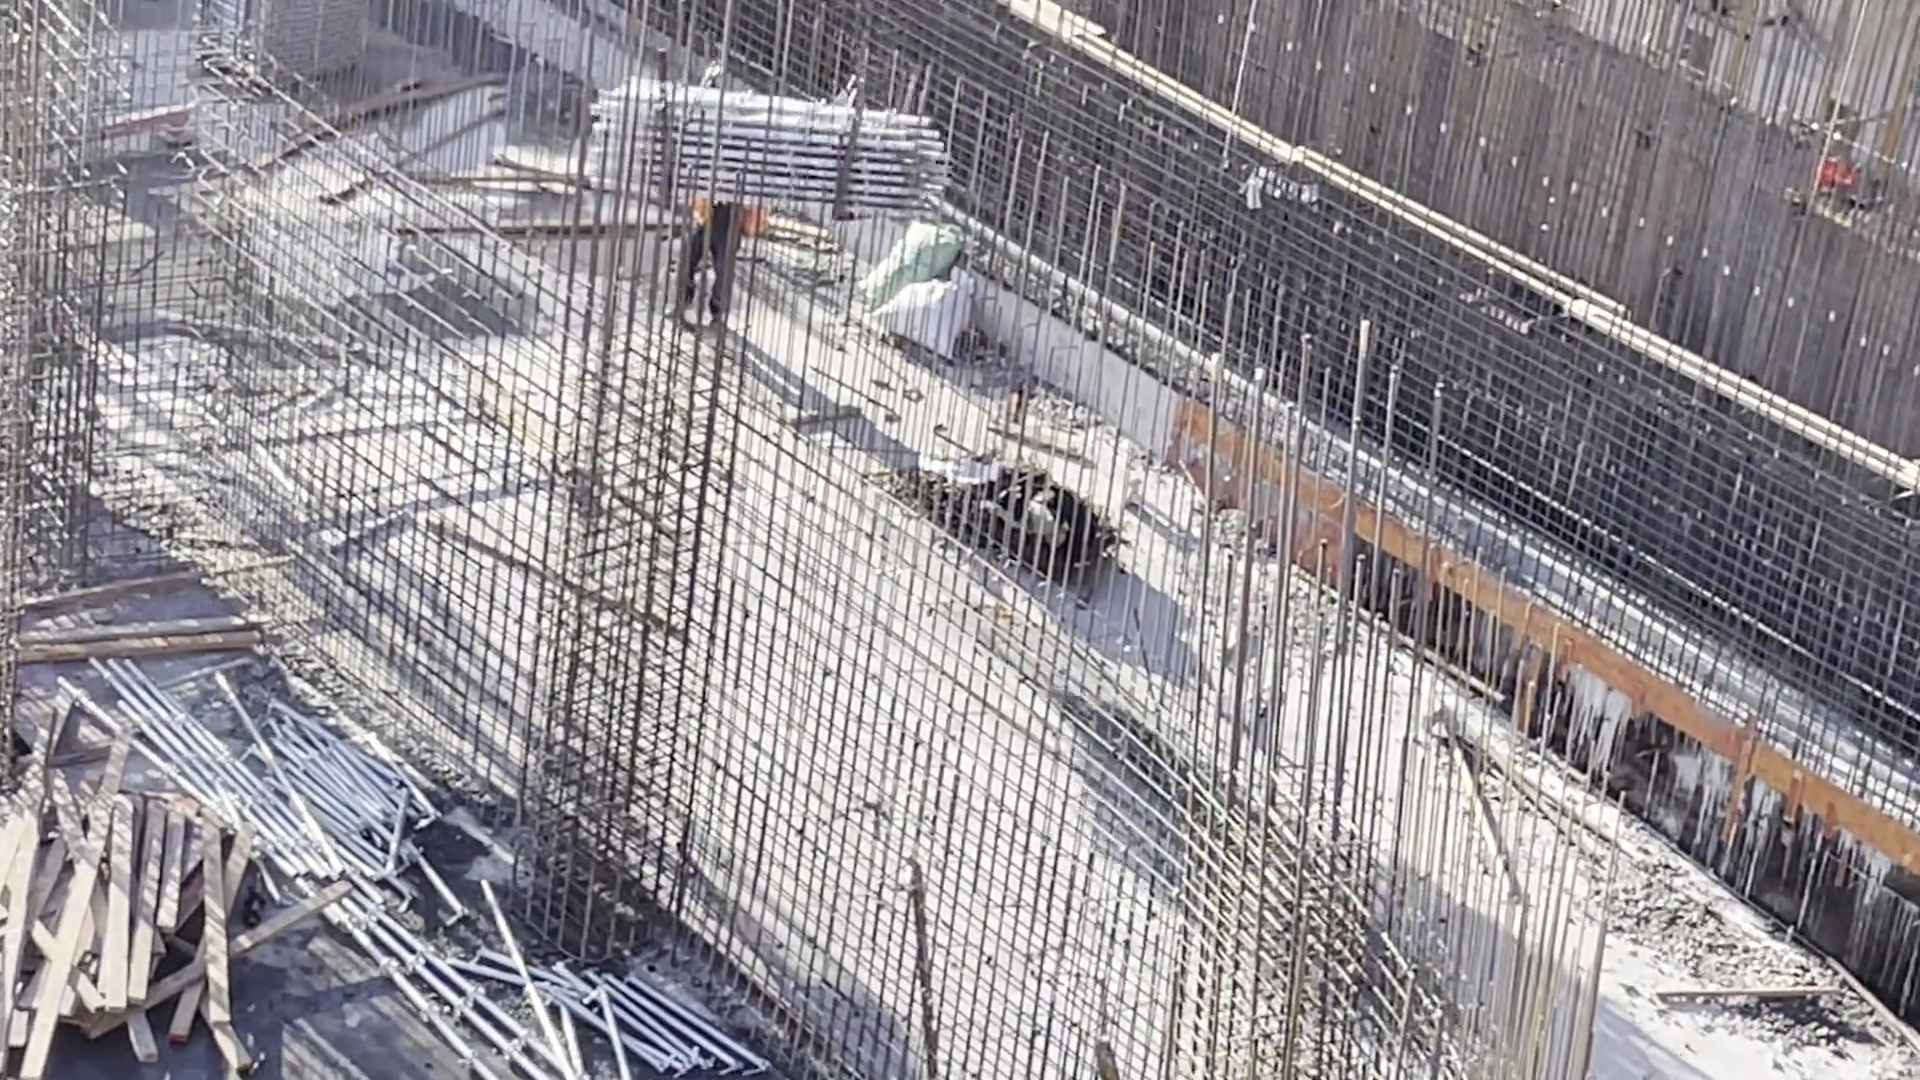person: (693, 156, 754, 342)
scaffold: (582, 79, 966, 203), (259, 726, 434, 861), (569, 962, 721, 1080), (186, 1, 352, 83)
vest: (684, 194, 763, 251)
wood: (1, 762, 261, 1068)
